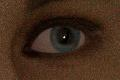eye: (52, 26, 79, 52)
